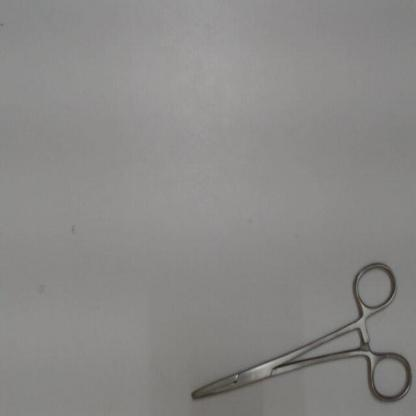Mayo Needle Holder: (184, 250, 416, 412)
